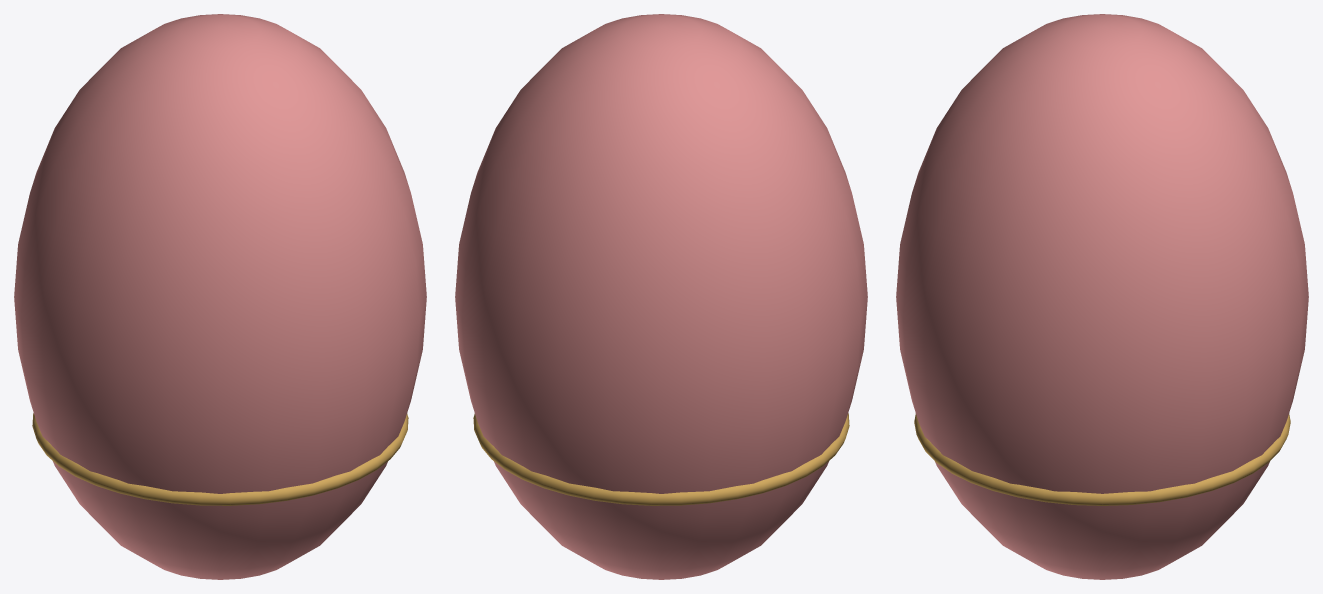
The model's file is wp-oeuf-decore.glb.
3 renders of one model, left to right at view 1: azimuth 30°, elevation 25°; view 2: azimuth 150°, elevation 25°; view 3: azimuth 270°, elevation 25°, orthographic.
Visible parts, largest first — view 1: wp-oeuf-decore; view 2: wp-oeuf-decore; view 3: wp-oeuf-decore.
Boxes of the visible parts, x1,y1,x2,y2 form: wp-oeuf-decore: (14, 14, 426, 579); wp-oeuf-decore: (455, 14, 867, 579); wp-oeuf-decore: (896, 14, 1308, 579).
Bounding box in the file's own units: 0.09 × 0.13 × 0.09.
